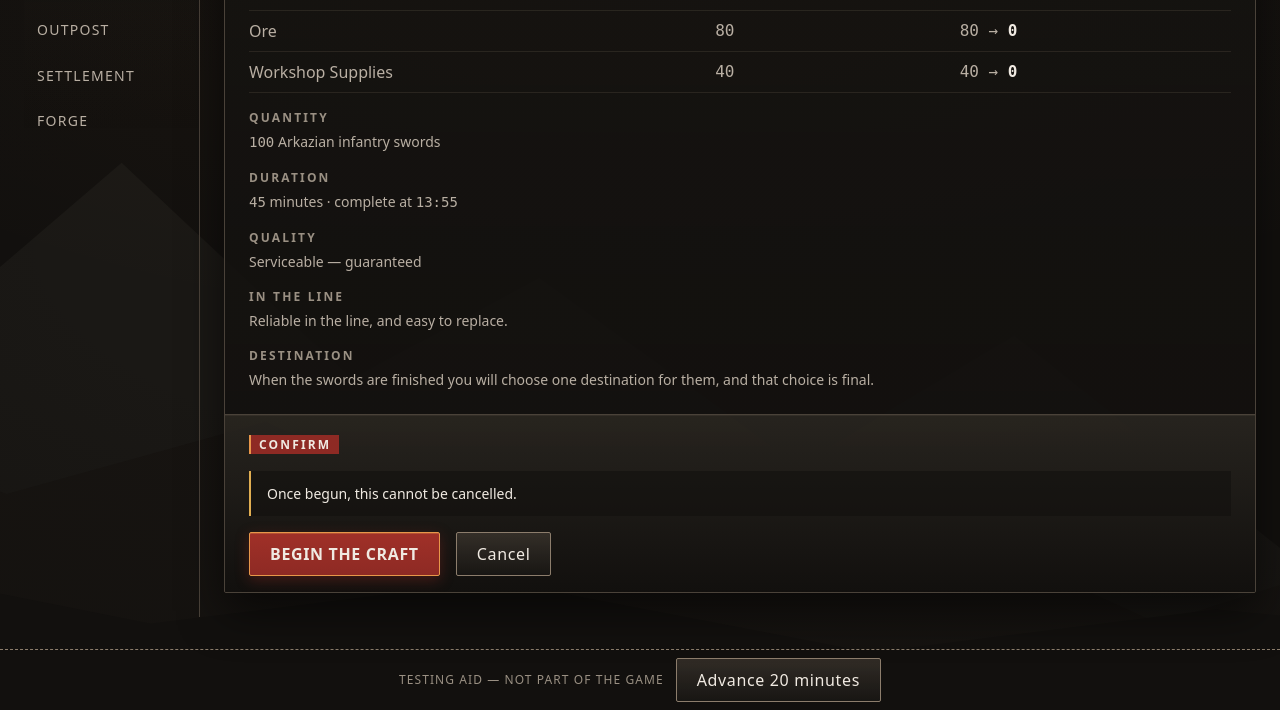
Scenario: The forge — committing › spends the whole cost once and starts the work
(page scrolled)
Click the button "Begin the craft" at (344, 554), box [249,532,440,576]
(page scrolled)
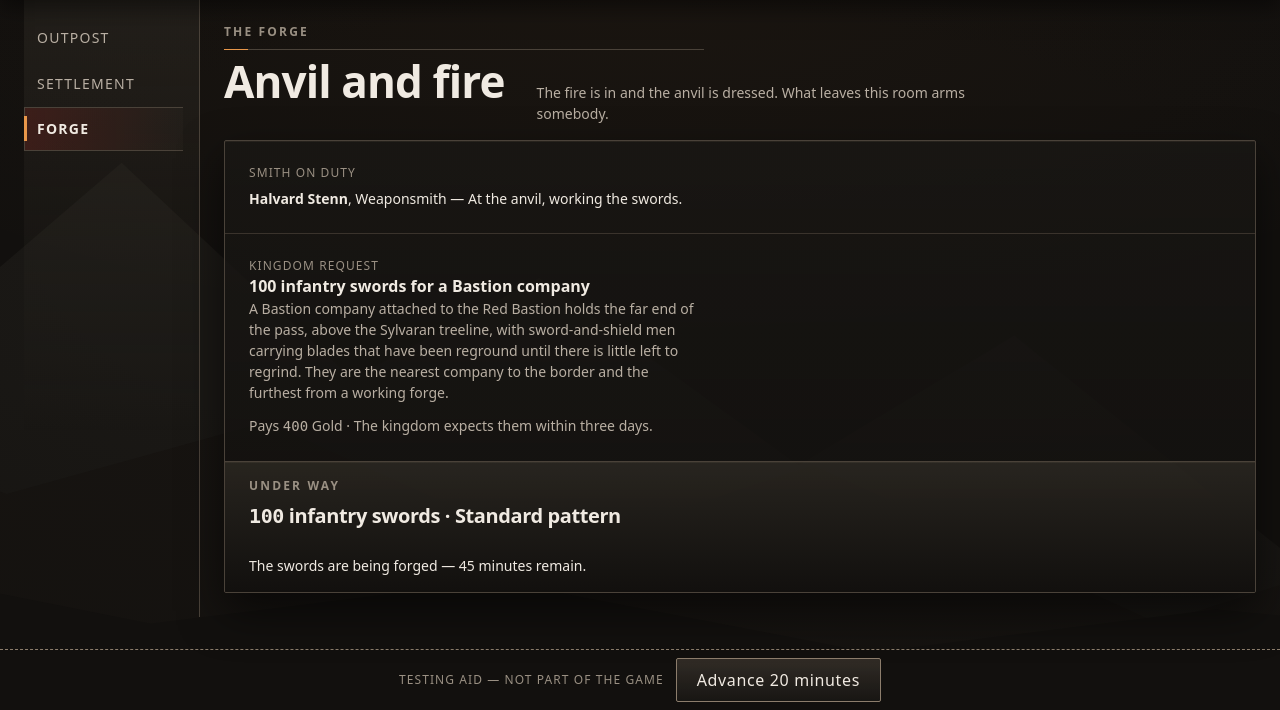
Check: the text "The swords are being forged — 45 minutes remain." is shown, box [249,556,586,575]
